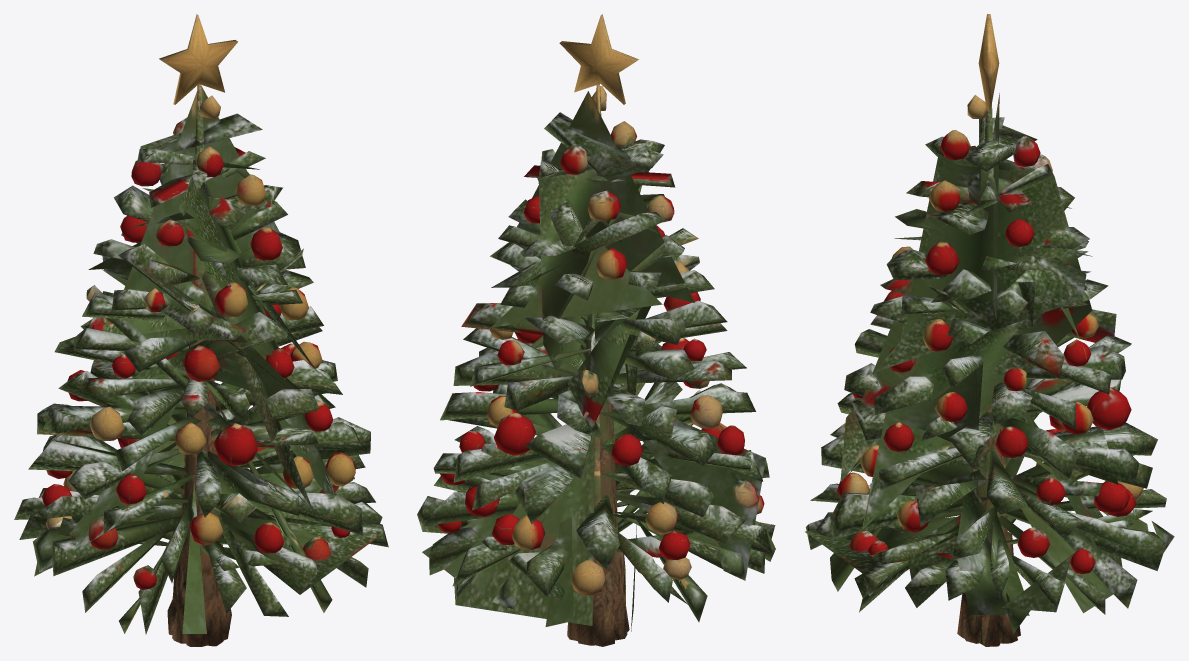
File: AW-XMAS-TREE-001-v0.2.glb
The picture shows the model from 3 angles, left to right: view 1: azimuth 30°, elevation 25°; view 2: azimuth 150°, elevation 25°; view 3: azimuth 270°, elevation 25°; orthographic projection.
Parts seen in each view (by area): view 1: AW-XMAS-TREE-001_meter_ground_pivot; view 2: AW-XMAS-TREE-001_meter_ground_pivot; view 3: AW-XMAS-TREE-001_meter_ground_pivot.
Part boxes in pixels (x1=…): AW-XMAS-TREE-001_meter_ground_pivot: x1=14, y1=14, x2=388, y2=646; AW-XMAS-TREE-001_meter_ground_pivot: x1=417, y1=14, x2=775, y2=646; AW-XMAS-TREE-001_meter_ground_pivot: x1=805, y1=14, x2=1174, y2=646.
Size of the model in its own units: 4.33 by 8 by 4.34.
Materials: 1 (1 with a texture image).
